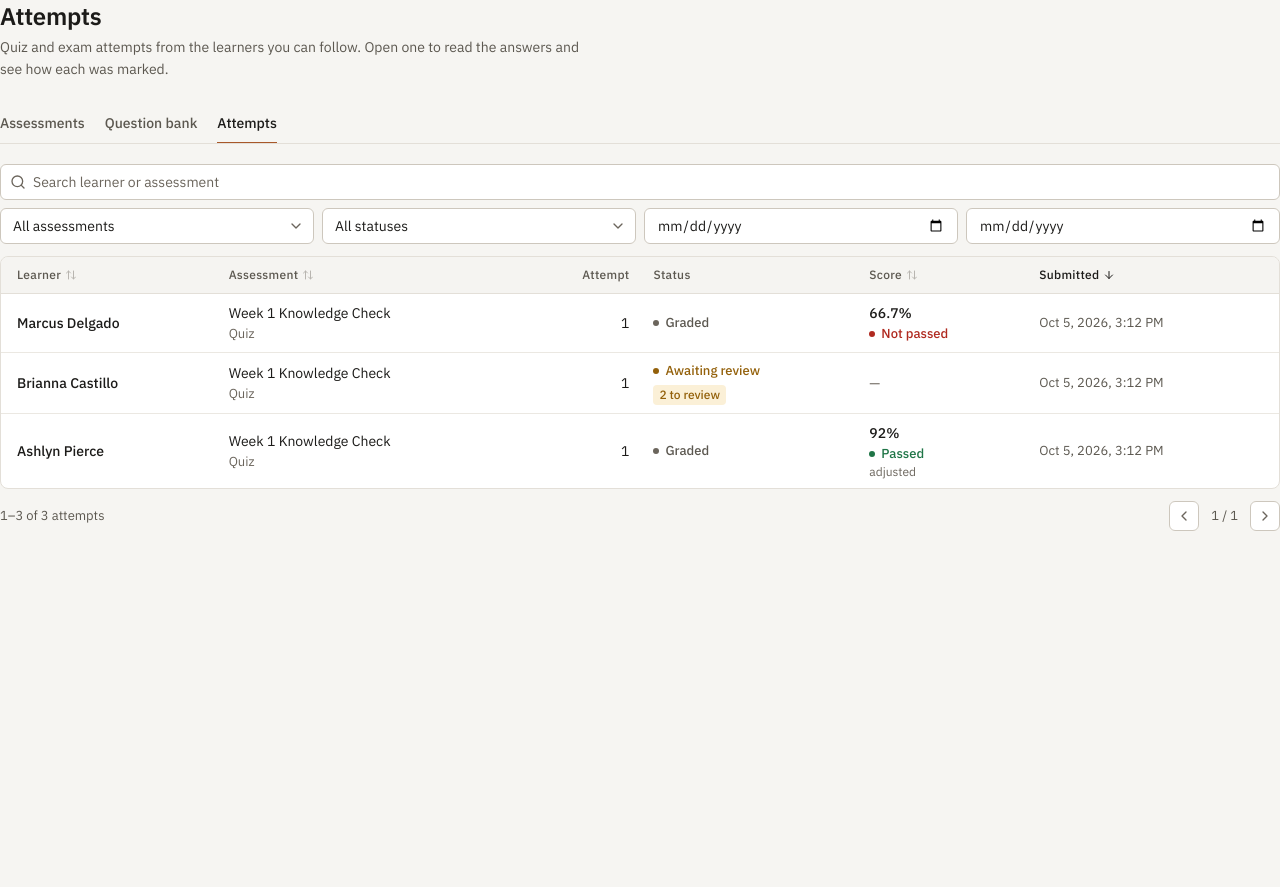
AttemptsReviewPage › opens a read-only breakdown of one attempt and keeps it in the URL
This screenshot has width=1280, height=887.
Step 1. Click the button "Marcus Delgado" → (68, 322), box [17,312,120,334]
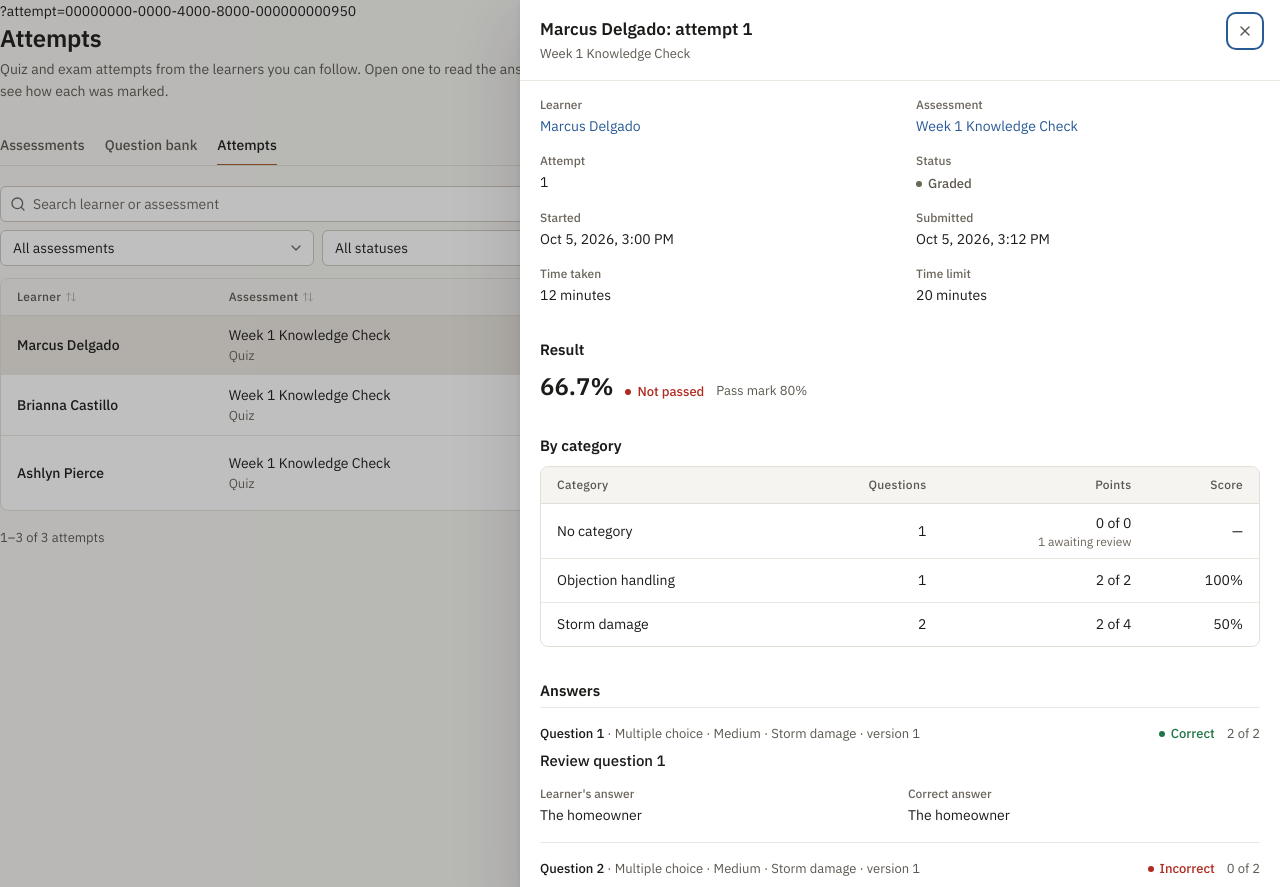
Check: the heading "Result" is shown, box [540,340,584,359]
Check: the text "Pass mark 80%" is shown, box [716,381,807,401]
